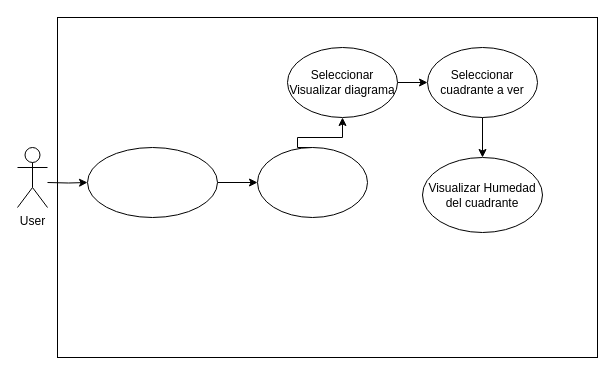
Image size: 615x375. Some labels were removed from this diagram. The centre of each missing label's shape, as x and y in pixels:
"Despliegue menú" goes at point 312,182.
"Iniciar sesión" goes at point 152,182.
